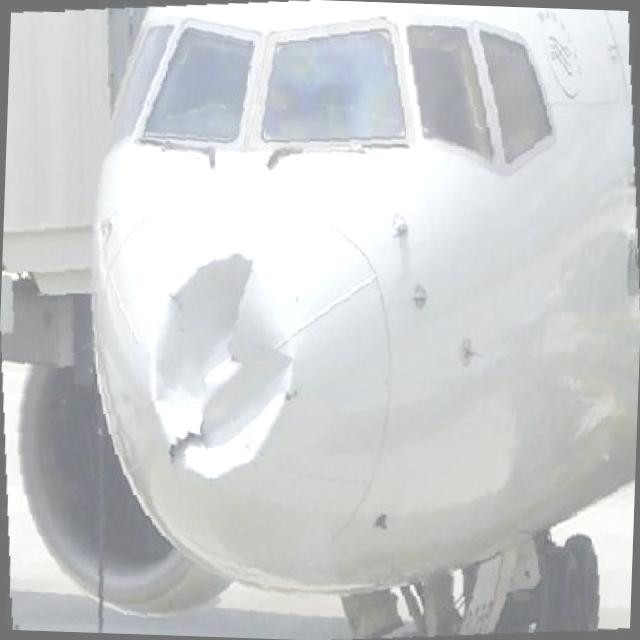dent: (140, 246, 294, 485)
